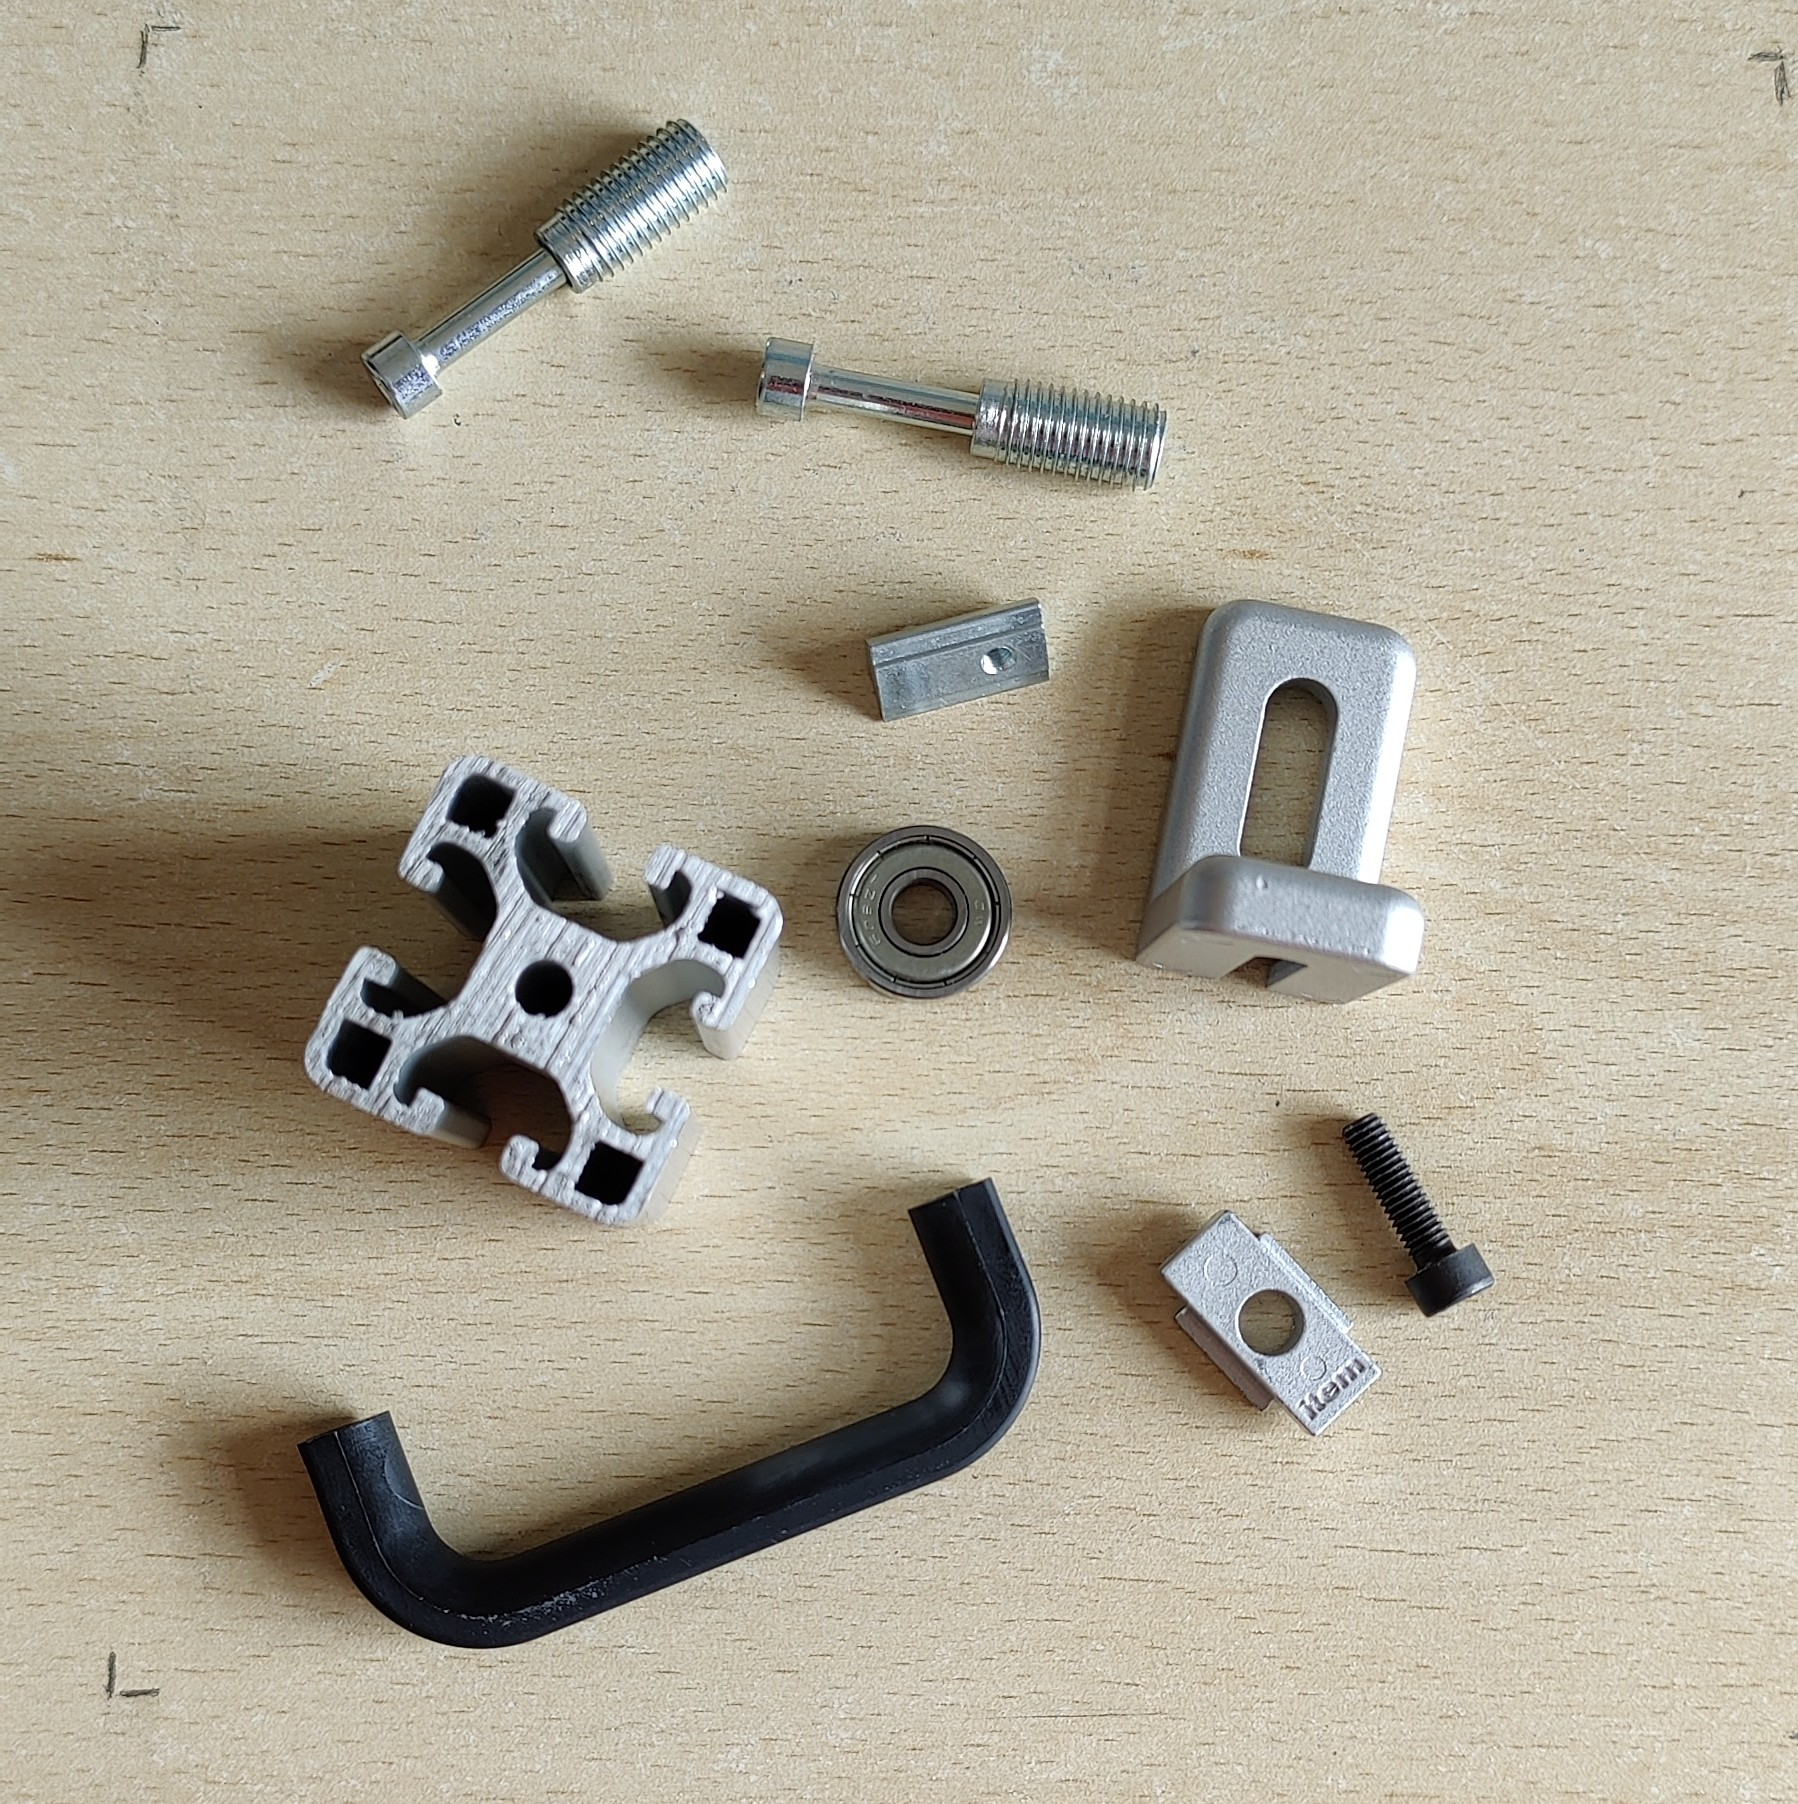Aluminium Extension: (300, 756, 784, 1230)
Ball Bearing: (831, 823, 1014, 1006)
Multiwinkel: (1130, 597, 1424, 1007)
Pull Handle: (296, 1177, 1047, 1651)
Shoulder Socket Head Cap Screw: (357, 112, 733, 421), (751, 331, 1172, 494)
Socket Head Cap Screw: (1335, 1111, 1498, 1322)
T Nut Square: (1156, 1207, 1385, 1442)
T Spring Nut: (863, 593, 1052, 726)
